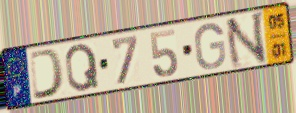5: (148, 27, 179, 80)
7: (110, 32, 140, 87)
D: (28, 47, 66, 102)
G: (193, 21, 228, 71)
N: (223, 9, 269, 72)
Q: (64, 42, 102, 94)
